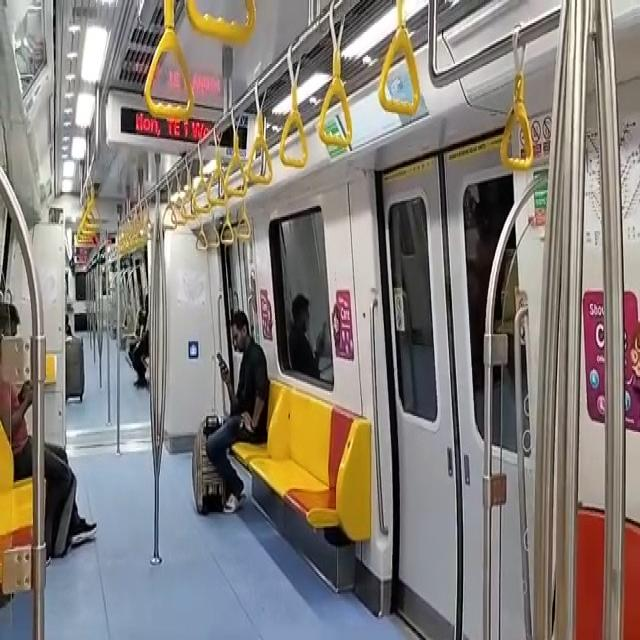bus-door: (382, 136, 514, 638), (491, 231, 521, 637)
